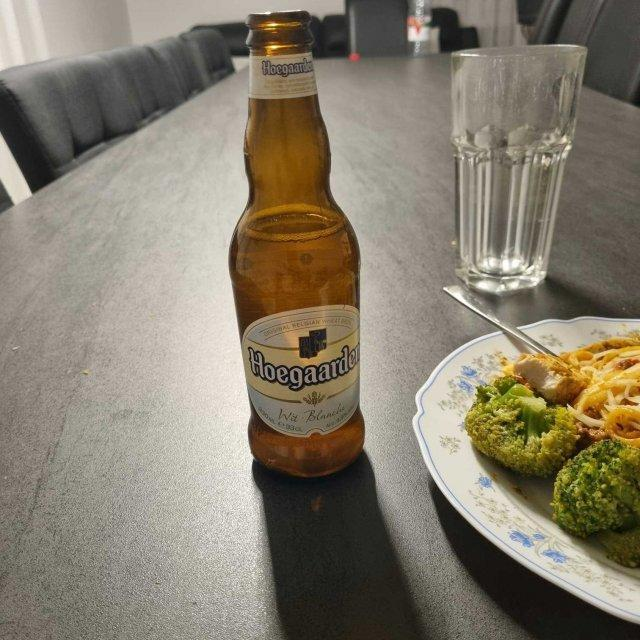Glass: (229, 9, 367, 477), (451, 43, 588, 292)
